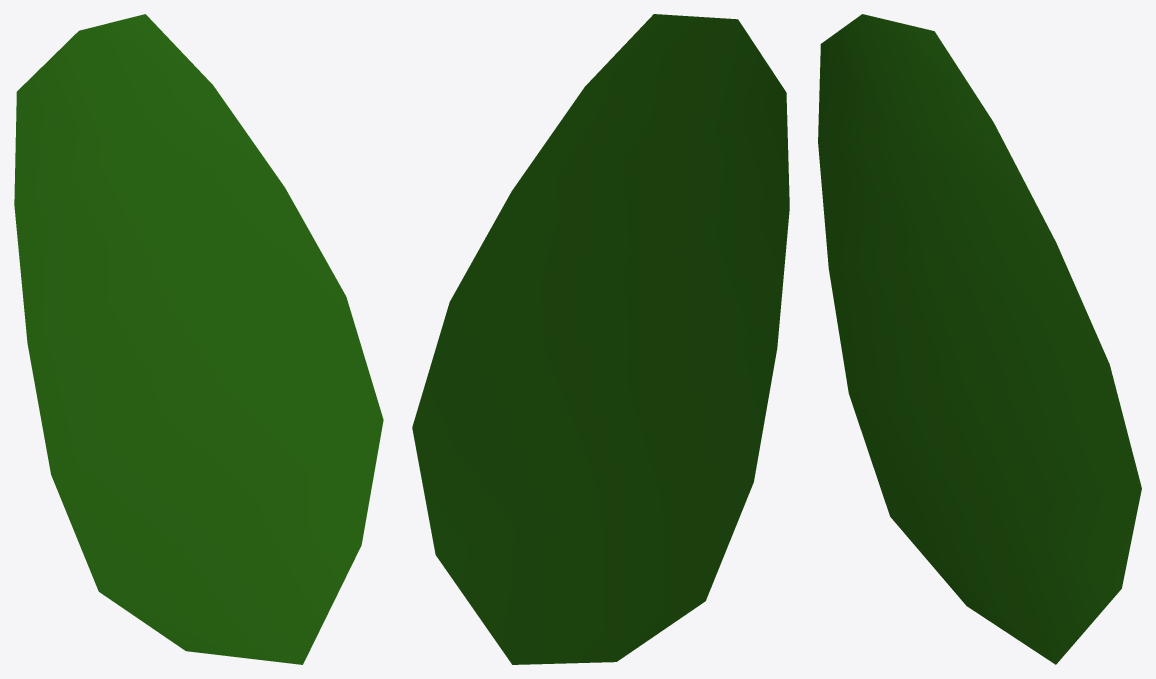
File: lovebird_feather_flight_tertiary_021.001.obj
3 views of the same model, side by side, from view 1: azimuth 30°, elevation 25°; view 2: azimuth 150°, elevation 25°; view 3: azimuth 330°, elevation 25° (orthographic). The views are drawn at different scales.
Visible parts, largest first — view 1: feather_flight_tertiary_021.001; view 2: feather_flight_tertiary_021.001; view 3: feather_flight_tertiary_021.001.
Part boxes in pixels (x1=…): feather_flight_tertiary_021.001: x1=14, y1=14, x2=383, y2=664; feather_flight_tertiary_021.001: x1=412, y1=14, x2=789, y2=664; feather_flight_tertiary_021.001: x1=818, y1=14, x2=1141, y2=664.
Size of the model in its own units: 0.00445 by 0.0079 by 0.000196.
